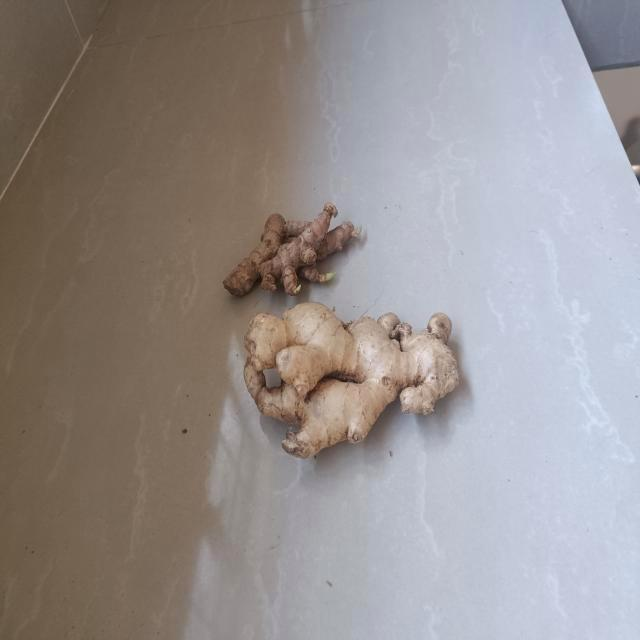ginger: (241, 307, 459, 460), (218, 200, 358, 296)
